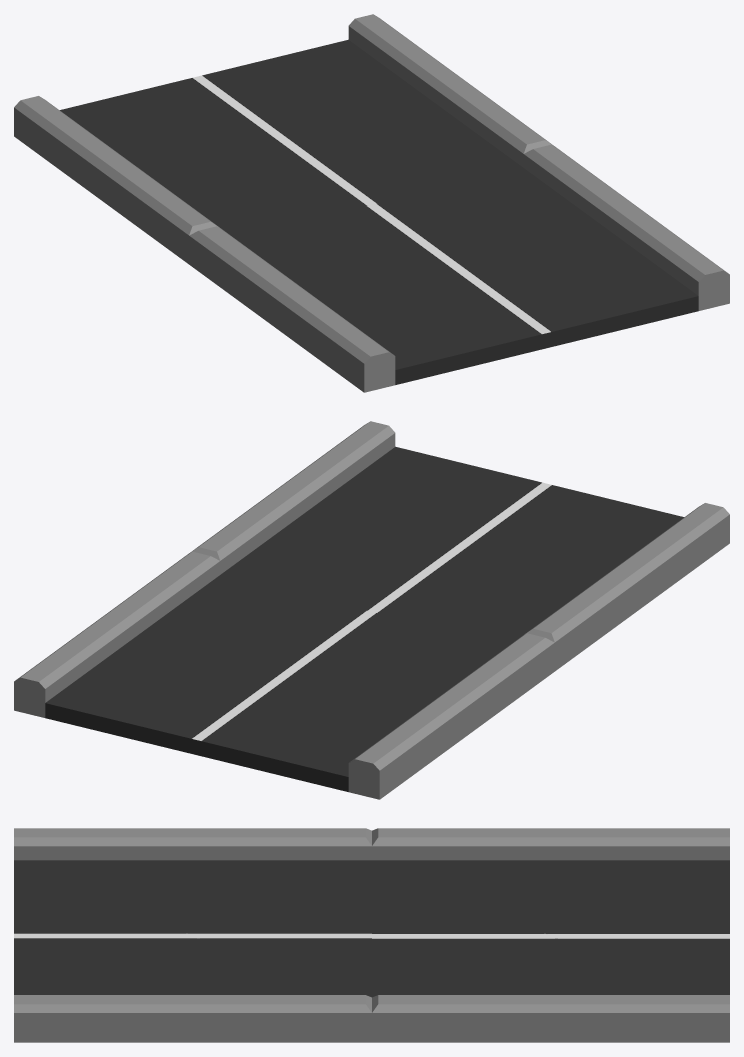
Rendered from Bridge.fbx.
The picture shows the model from 3 angles, top to bottom: view 1: azimuth 30°, elevation 25°; view 2: azimuth 150°, elevation 25°; view 3: azimuth 270°, elevation 25°; orthographic projection. The views are drawn at different scales.
Parts seen in each view (by area): view 1: BridgeOne, BridgeTwo; view 2: BridgeTwo, BridgeOne; view 3: BridgeTwo, BridgeOne.
Boxes of the visible parts, bbox=[...] form: BridgeOne: bbox=[189, 144, 729, 392]; BridgeTwo: bbox=[14, 14, 553, 264]; BridgeTwo: bbox=[14, 551, 554, 799]; BridgeOne: bbox=[190, 421, 729, 671]; BridgeTwo: bbox=[372, 828, 729, 1042]; BridgeOne: bbox=[14, 828, 371, 1042].
Size of the model in its own units: 760 by 68.68 by 1260.
1 material, 1 textured.
